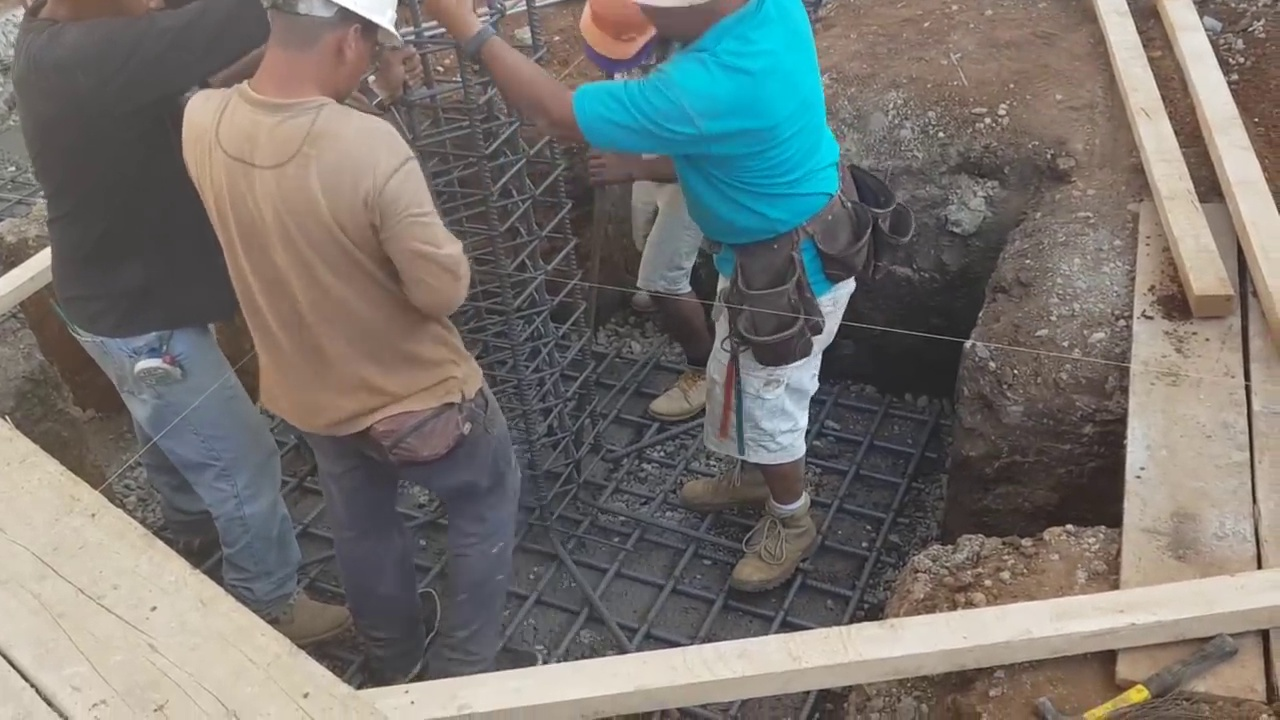helmet: (578, 0, 666, 63)
helmet-off: (246, 6, 403, 105)
helmet-on: (571, 0, 685, 96)
person: (427, 0, 867, 591), (182, 0, 537, 698), (9, 0, 348, 663), (571, 2, 724, 435)
